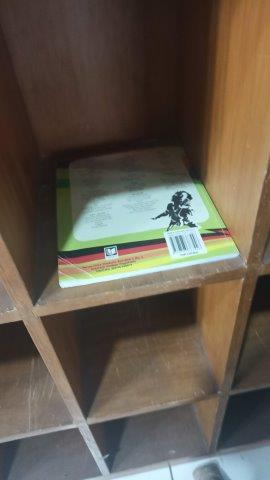kertas: (52, 144, 239, 292)
